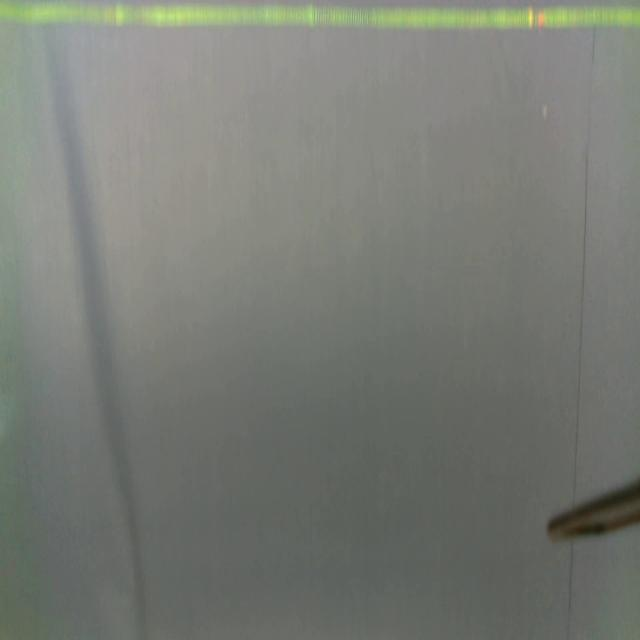crease: (572, 26, 598, 503), (565, 538, 578, 639)
